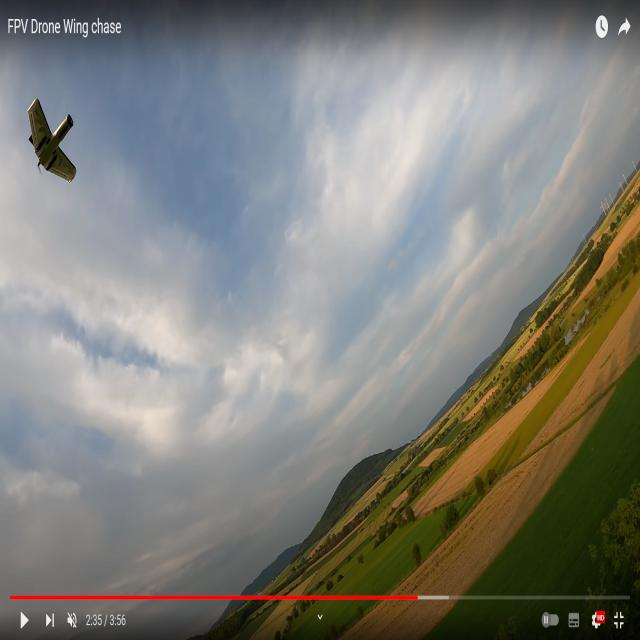iha: (24, 134, 85, 153)
